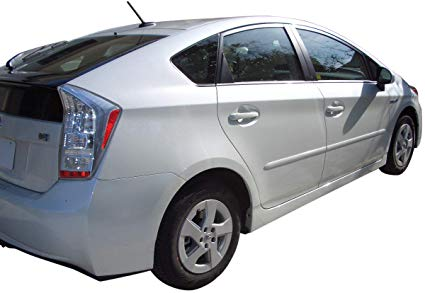Toyota Prius: (1, 14, 425, 291)
